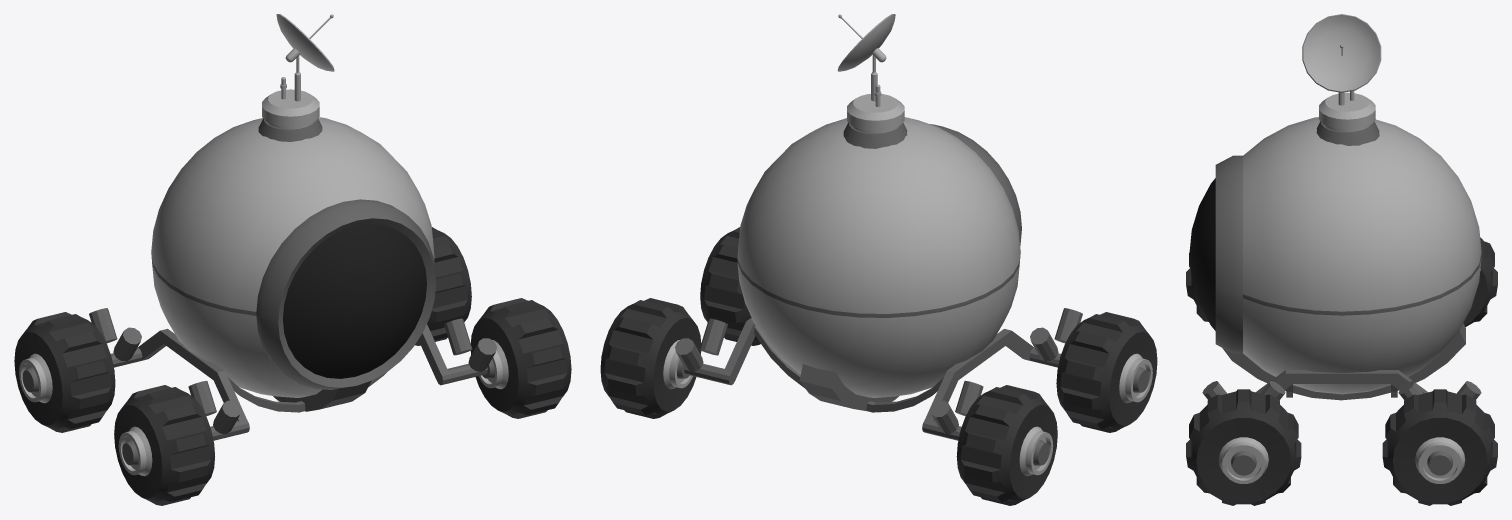
File: Rover Round.glb
The picture shows the model from 3 angles, left to right: view 1: azimuth 30°, elevation 25°; view 2: azimuth 150°, elevation 25°; view 3: azimuth 270°, elevation 25°; orthographic projection.
Parts seen in each view (by area): view 1: Rover_Round, Wheel_2, Wheel_4, Wheel_3, Wheel_1; view 2: Rover_Round, Wheel_4, Wheel_2, Wheel_1, Wheel_3; view 3: Rover_Round, Wheel_1, Wheel_3, Wheel_4, Wheel_2.
Boxes of the visible parts, left/top/right/bottom form: Rover_Round: left=89, top=14, right=496, bottom=440; Wheel_2: left=114, top=385, right=214, bottom=505; Wheel_4: left=14, top=312, right=115, bottom=432; Wheel_3: left=470, top=298, right=571, bottom=418; Wheel_1: left=415, top=227, right=471, bottom=345; Rover_Round: left=675, top=14, right=1082, bottom=440; Wheel_4: left=956, top=385, right=1057, bottom=505; Wheel_2: left=1056, top=312, right=1157, bottom=432; Wheel_1: left=600, top=298, right=701, bottom=418; Wheel_3: left=700, top=227, right=760, bottom=345; Rover_Round: left=1189, top=14, right=1481, bottom=400; Wheel_1: left=1382, top=389, right=1497, bottom=505; Wheel_3: left=1186, top=389, right=1301, bottom=505; Wheel_4: left=1463, top=237, right=1497, bottom=326; Wheel_2: left=1186, top=252, right=1208, bottom=321.
Size of the model in its own units: 5.79 by 5.17 by 3.69.
1 material, 1 textured.
